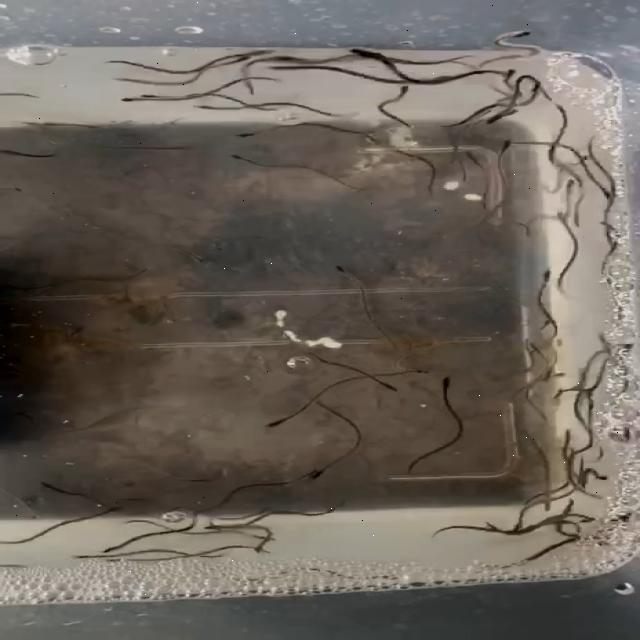inactive_glass_eel: (344, 49, 402, 67), (490, 28, 548, 44), (366, 373, 406, 395), (418, 88, 461, 106), (454, 148, 490, 168), (479, 107, 510, 129), (230, 46, 278, 60), (588, 177, 614, 200), (222, 51, 256, 68), (494, 138, 519, 160), (66, 548, 108, 561), (98, 538, 132, 554), (326, 261, 356, 279), (106, 92, 148, 104), (383, 84, 411, 102), (200, 520, 236, 534), (496, 68, 527, 84), (560, 174, 580, 198), (310, 464, 334, 484), (260, 414, 286, 431), (94, 505, 128, 518), (587, 468, 617, 482), (547, 210, 570, 228), (226, 152, 255, 166), (129, 92, 179, 100), (523, 338, 543, 358), (531, 317, 555, 333), (160, 141, 192, 153), (190, 102, 216, 116), (236, 128, 272, 138), (438, 374, 458, 392), (598, 216, 620, 232), (534, 269, 556, 285), (103, 558, 136, 568), (408, 367, 434, 377), (576, 514, 604, 522)
